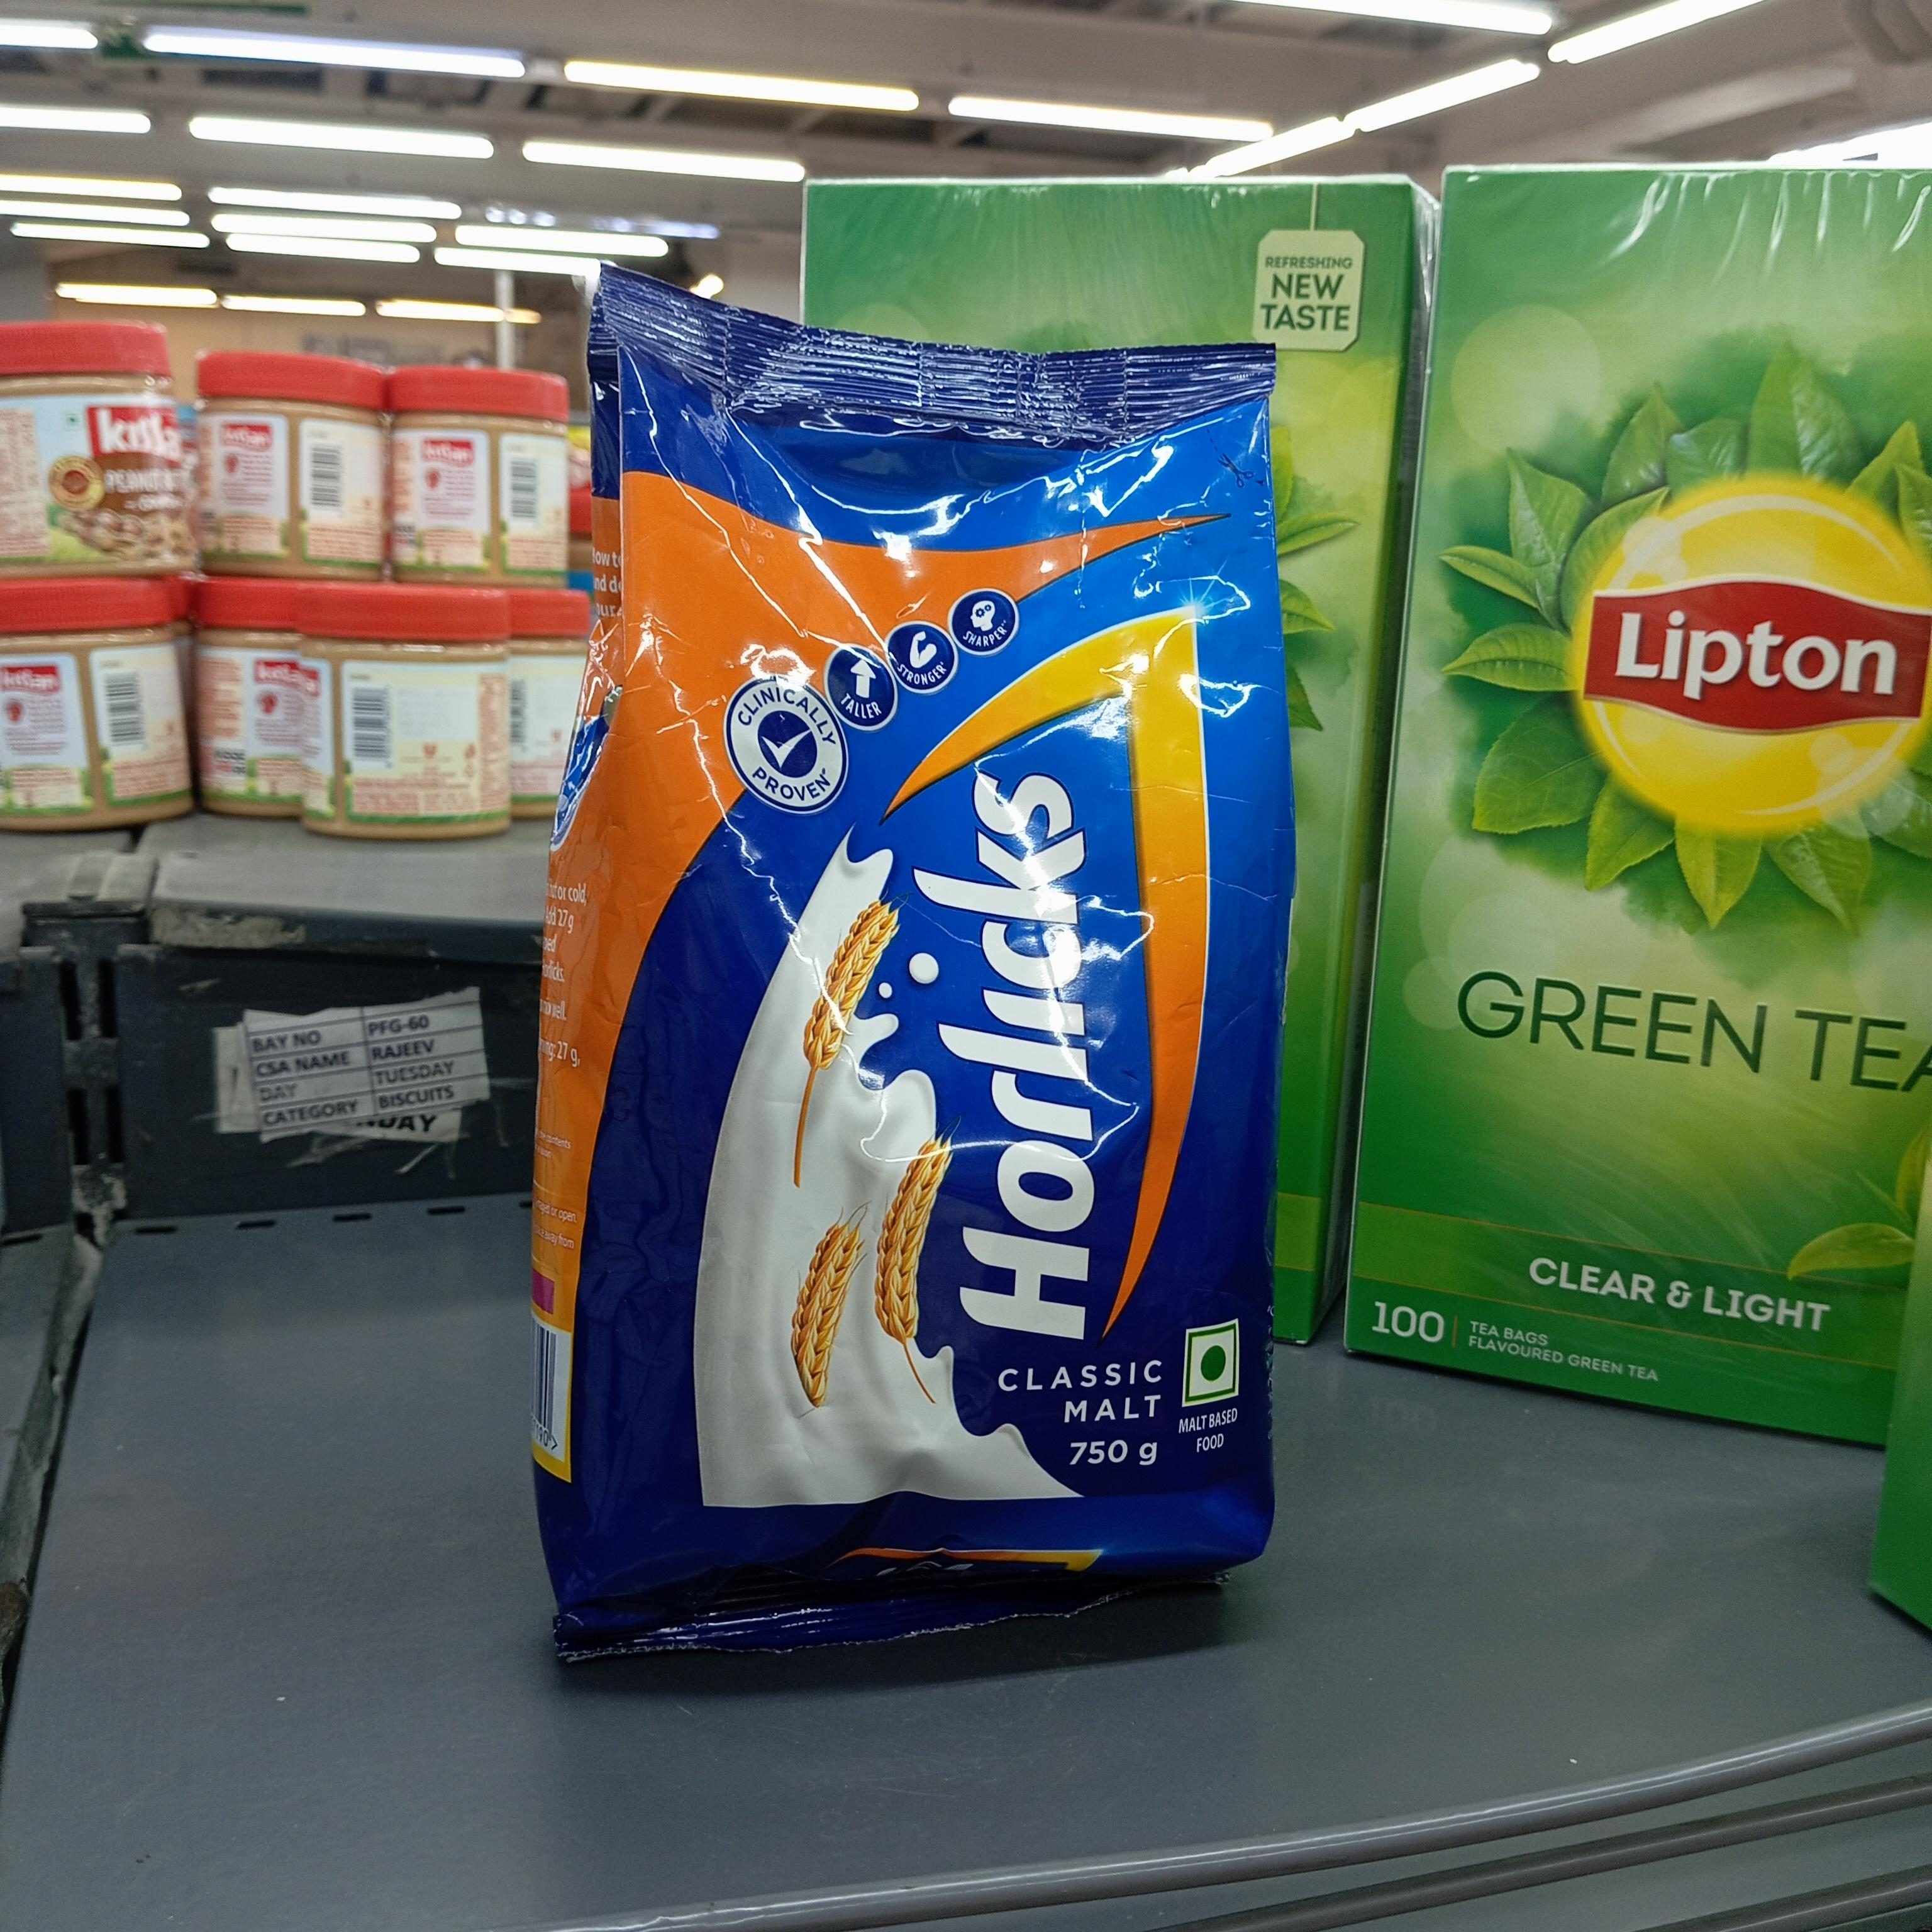HORLICK_CLASSIC_MALT_750_G_POUCH: (584, 267, 1272, 1583)
